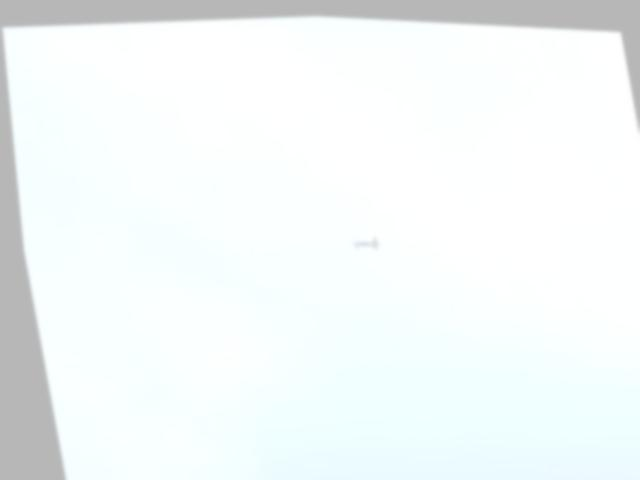uav: (344, 228, 377, 250)
